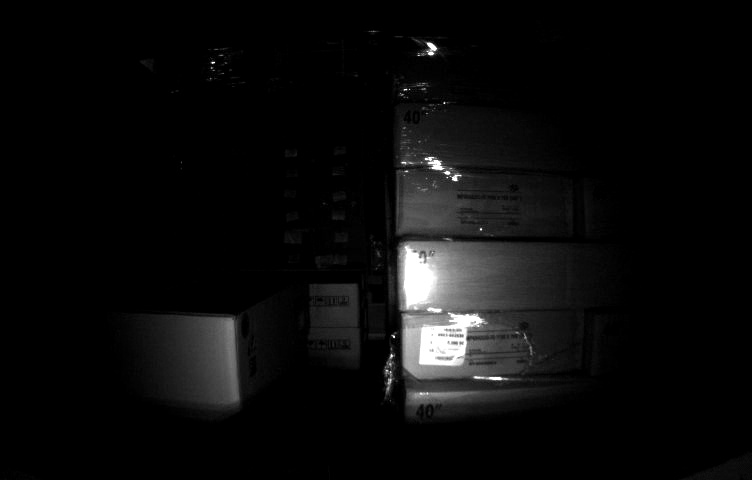True Barcode: (420, 323, 466, 366)
